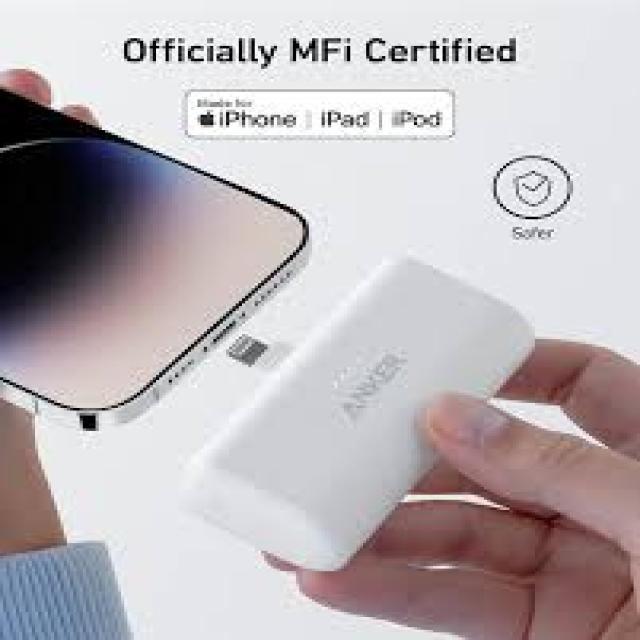power_bank: (178, 240, 550, 581)
